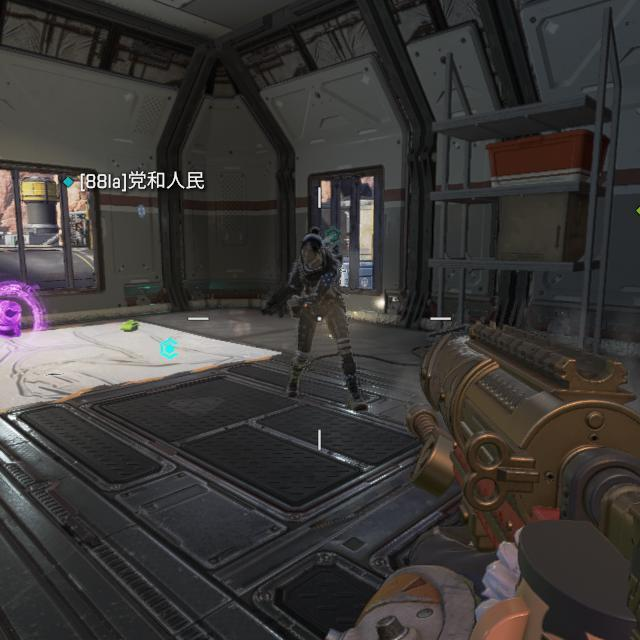avatar: (282, 230, 366, 410)
